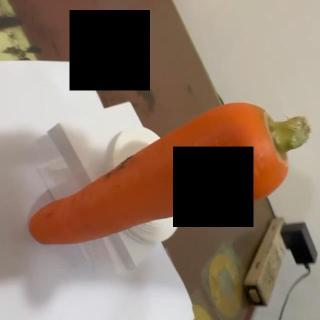carrot: (30, 101, 310, 248)
